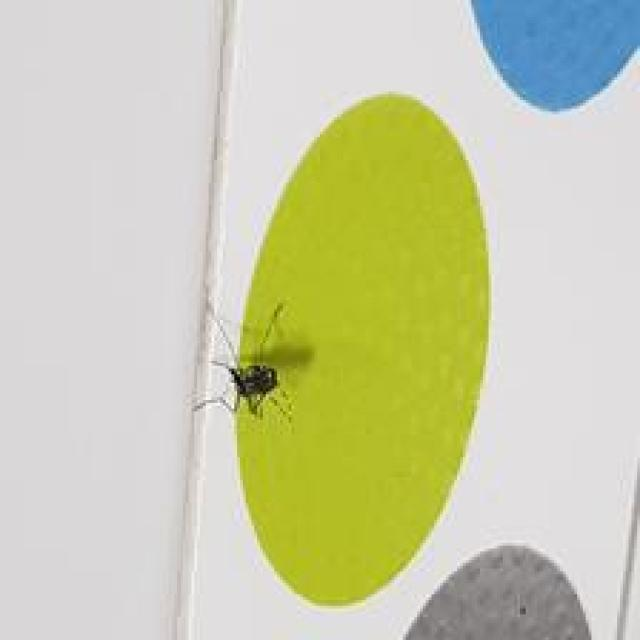Aedes albopictus: (192, 300, 294, 423)
